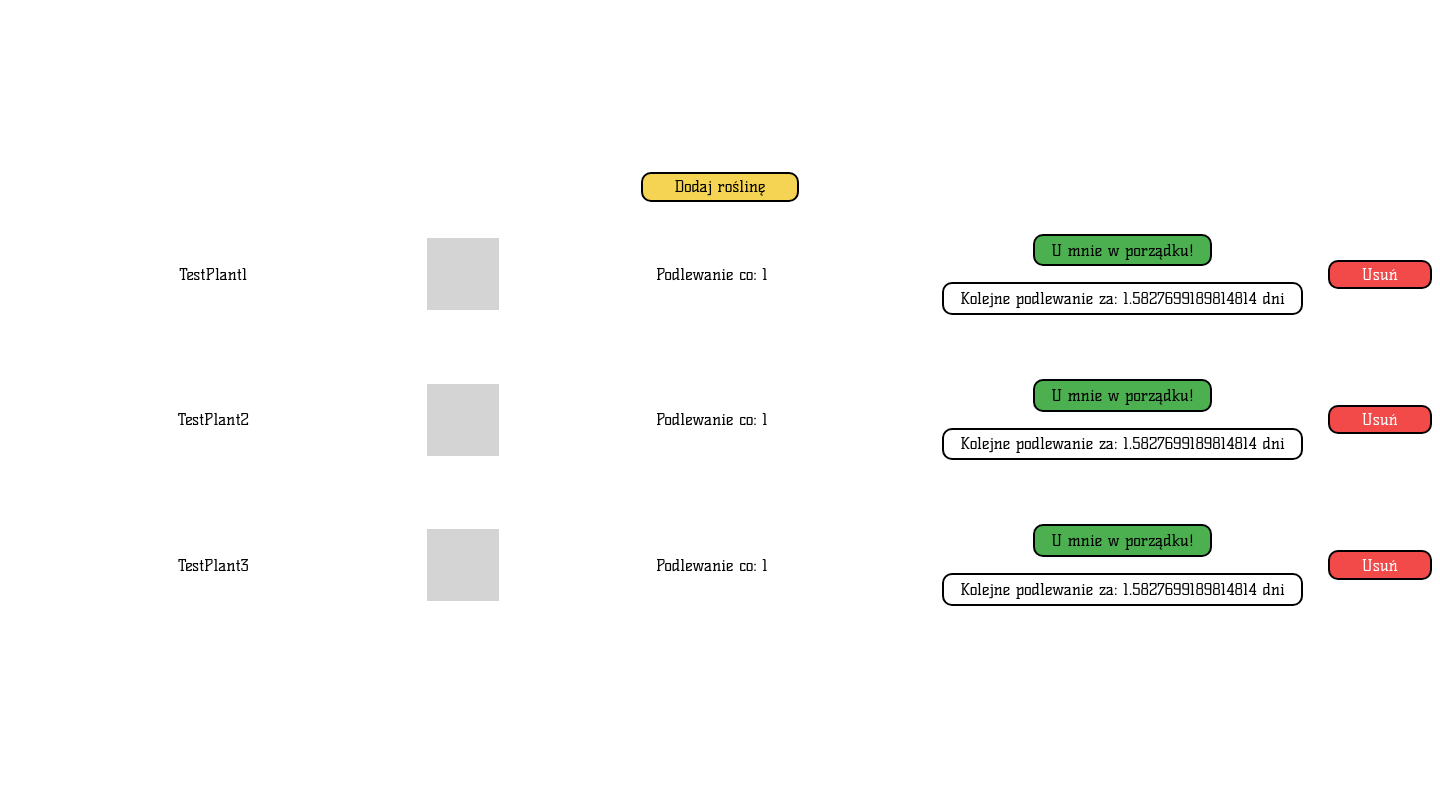
Scenario: PlantsList component › Should not render if plants list array is empty
The image size is (1440, 810).
Click the button "Dodaj roślinę" at (720, 187), box [640,172,799,202]
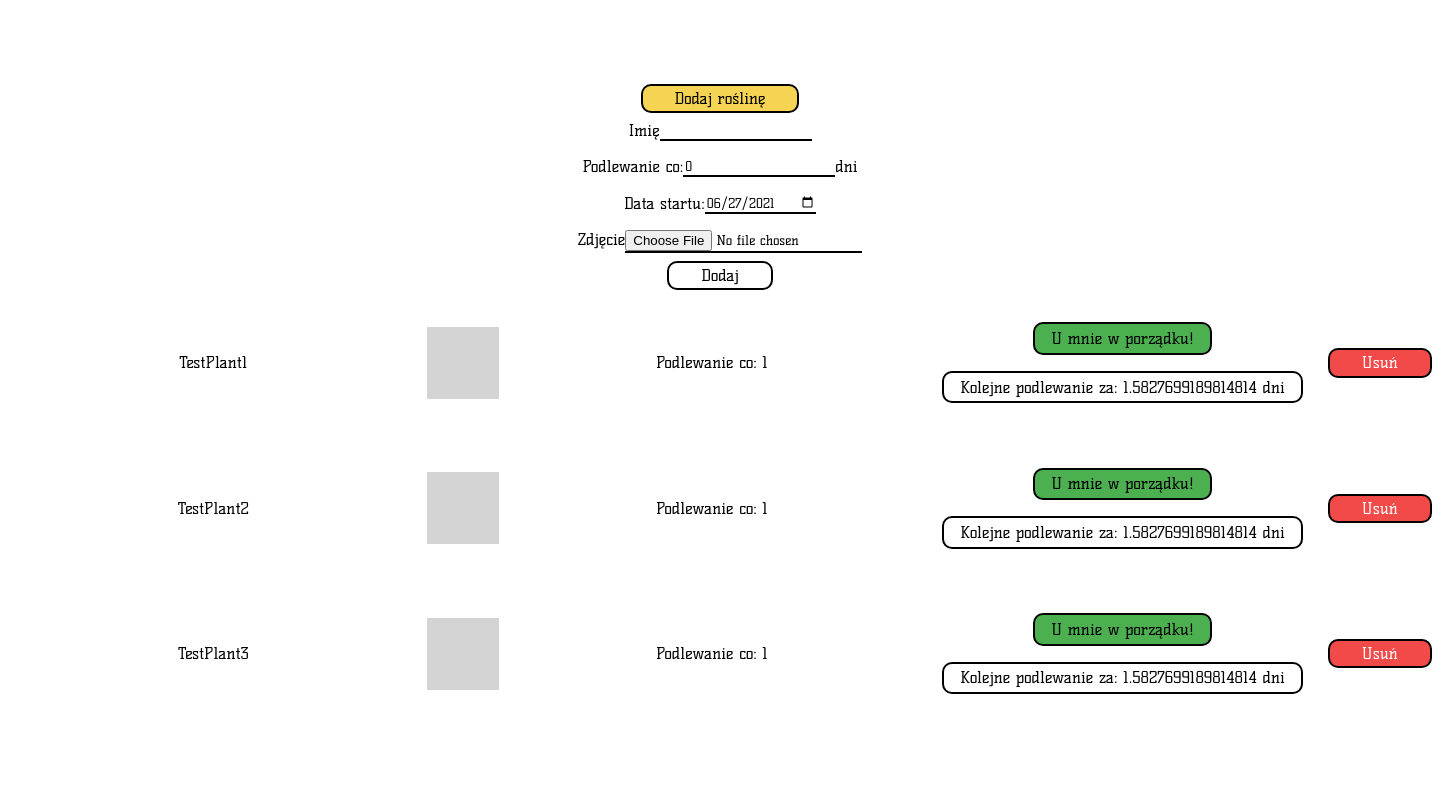
Result: the number of "AddPlant" components is 1 at [578,121,862,290]
